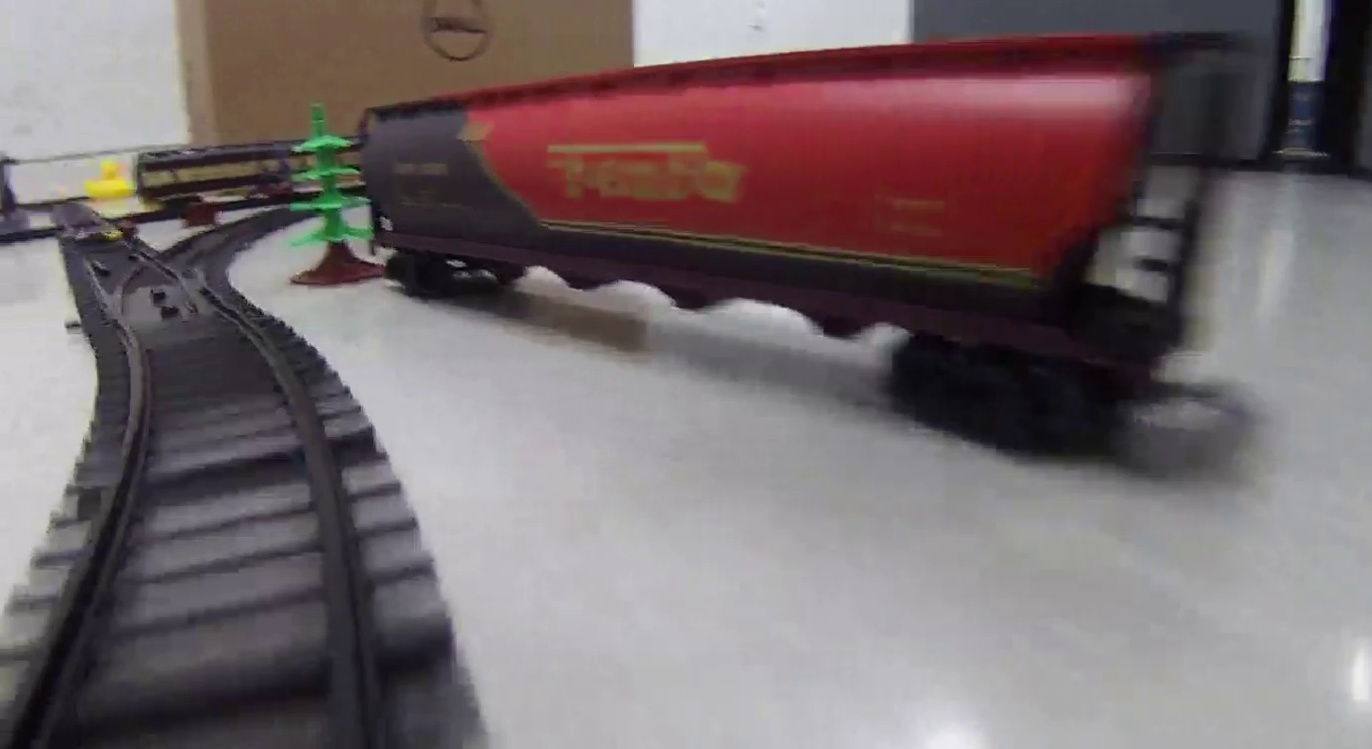tree: (285, 101, 372, 289)
